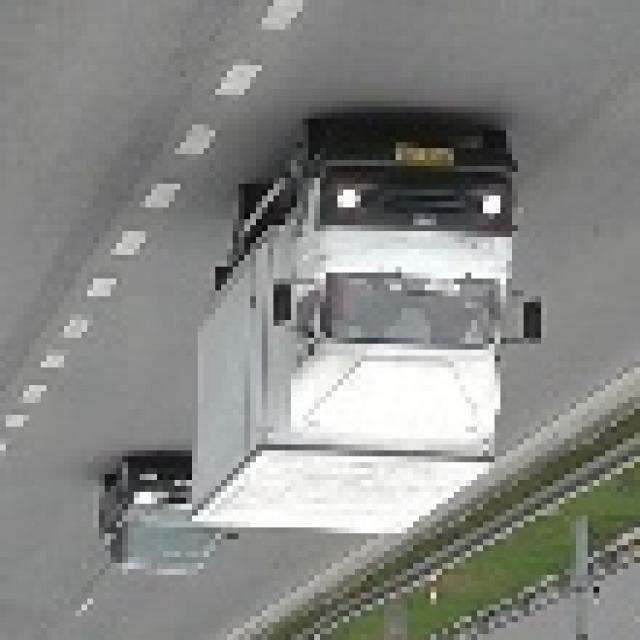truck: (192, 130, 553, 550)
